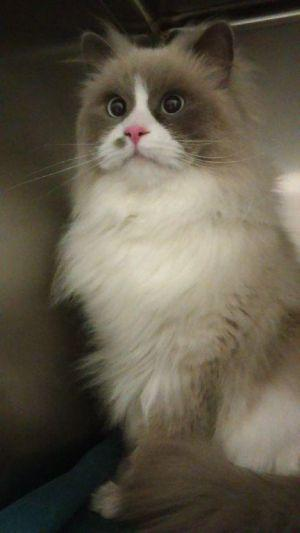ragdoll: (59, 1, 247, 203)
